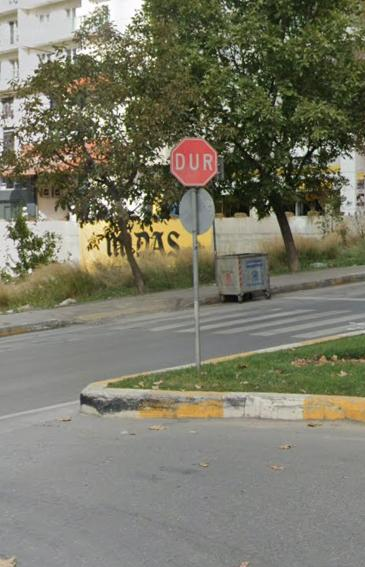stop: (172, 139, 222, 184)
